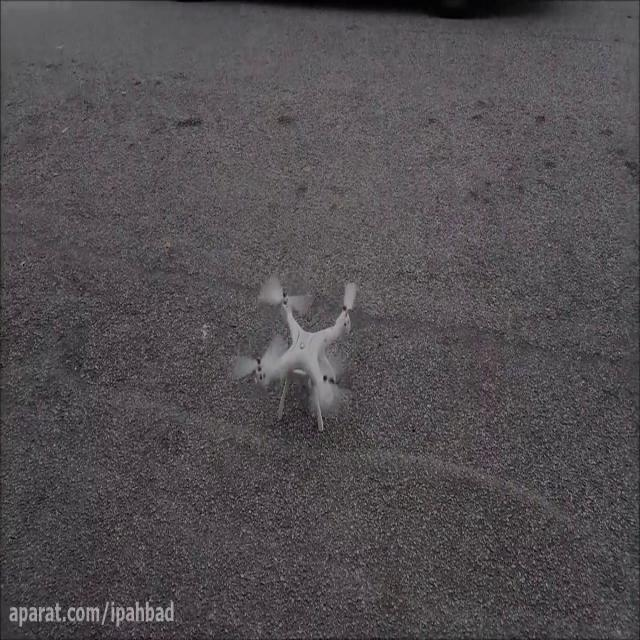drone: (232, 276, 358, 434)
